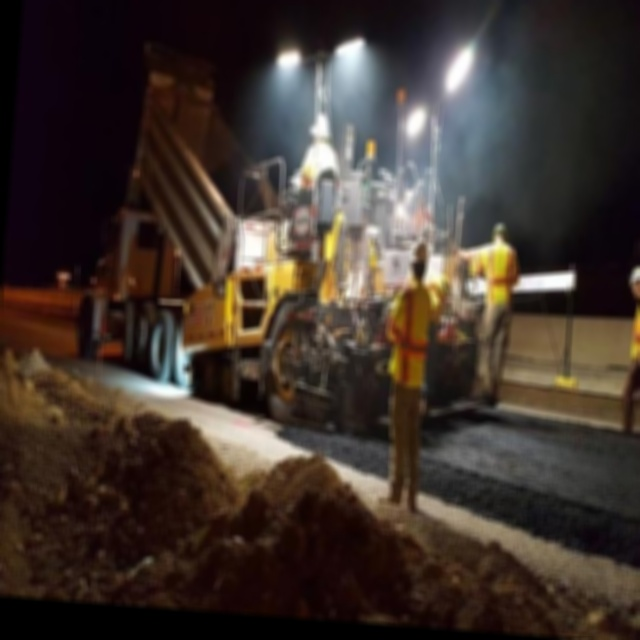Con_Casco: (409, 237, 432, 281)
Con_Chaleco: (390, 284, 433, 388), (484, 241, 521, 314), (628, 292, 640, 381)
